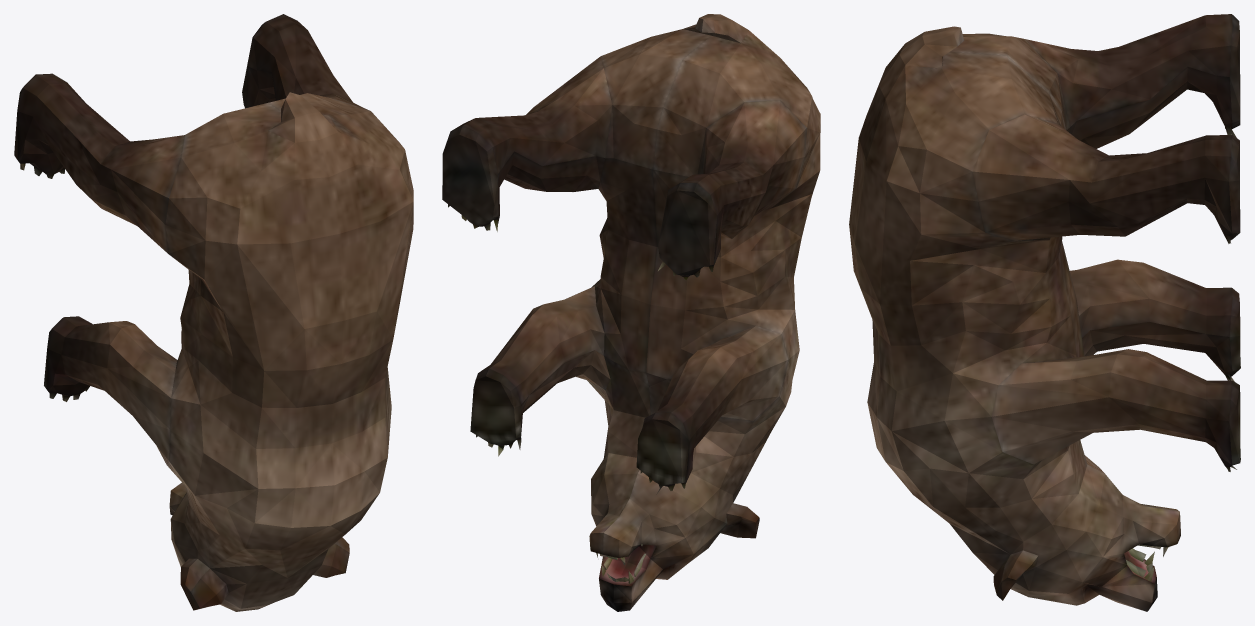
The model's file is bear.glb.
3 views of the same model, side by side, from view 1: azimuth 30°, elevation 25°; view 2: azimuth 150°, elevation 25°; view 3: azimuth 270°, elevation 25° (orthographic). The views are drawn at different scales.
Visible parts, largest first — view 1: bear.obj; view 2: bear.obj; view 3: bear.obj.
Part boxes in pixels (x1,y1,x2,y2): bear.obj: (14, 14, 413, 611); bear.obj: (442, 14, 820, 611); bear.obj: (849, 14, 1240, 611).
Size of the model in its own units: 0.5374 by 1 by 0.6098.
1 material, 1 textured.
